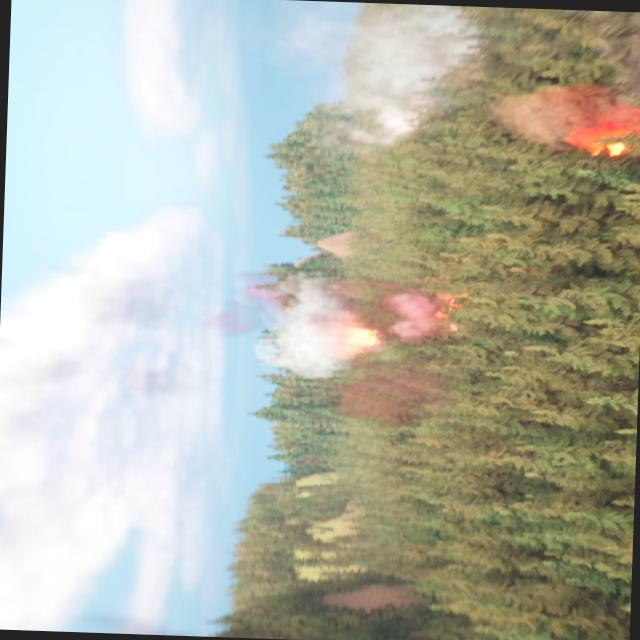fire: (563, 106, 639, 160), (345, 320, 392, 346)
smoke: (258, 0, 482, 149), (249, 275, 466, 424), (495, 74, 633, 142)
